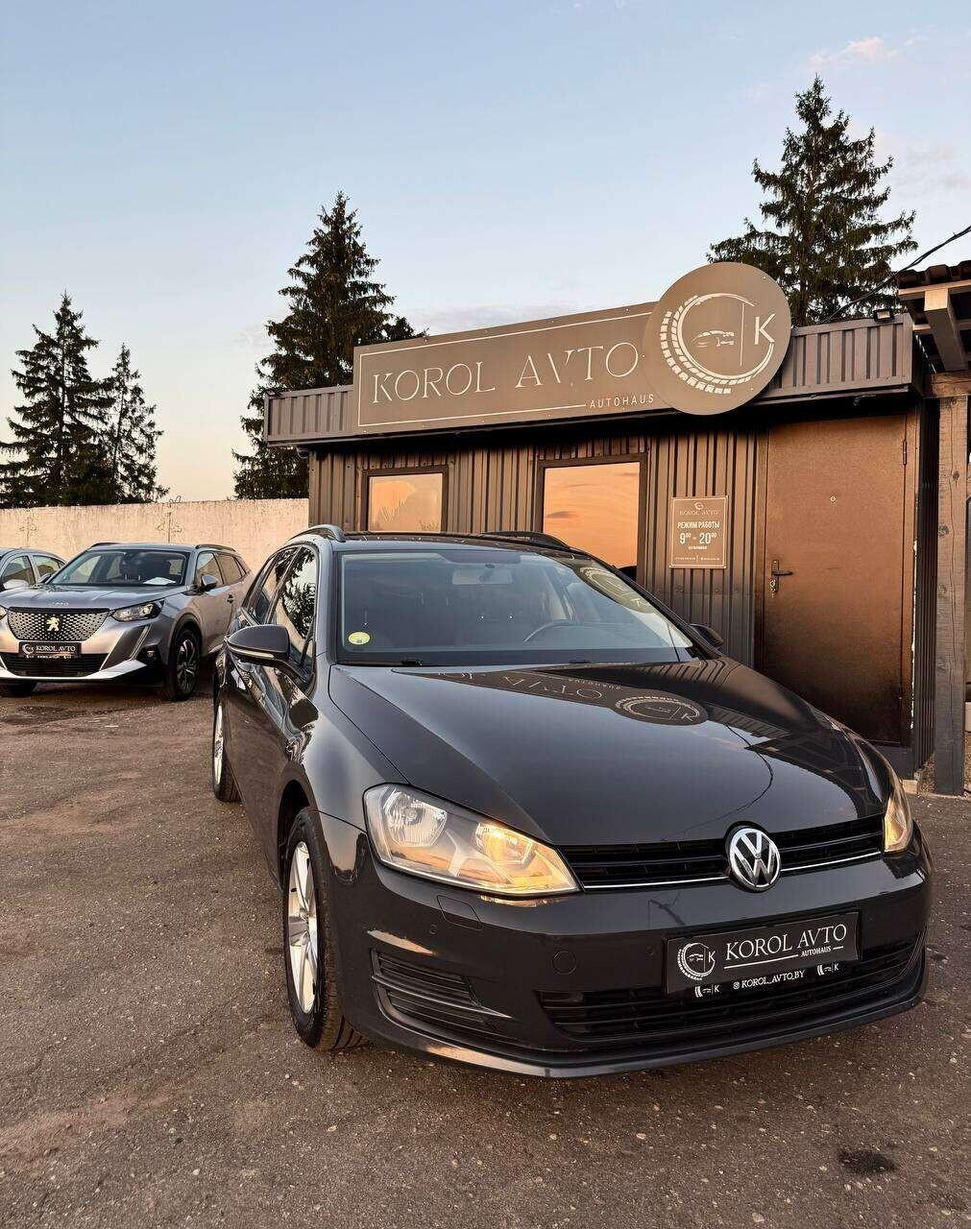Golf_2012-2017: (199, 524, 929, 1081)
